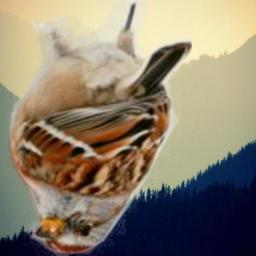Sparrow: (7, 0, 192, 256)
